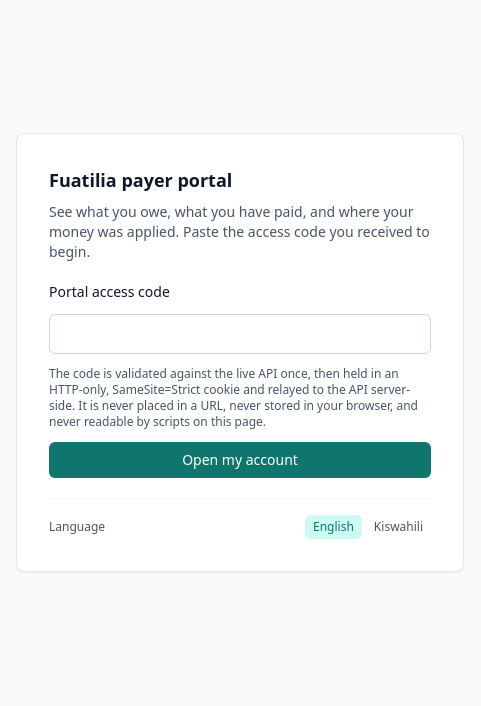
PortalGate › renders the refused state on 403 as well (authenticated but not authorized)
Type "0f1e2d3c-4b5a-4968-8776-6554433221ff" into the password field labelled "Portal access code".
click(240, 334); type("0f1e2d3c-4b5a-4968-8776-6554433221ff")  # box [49,314,431,354]
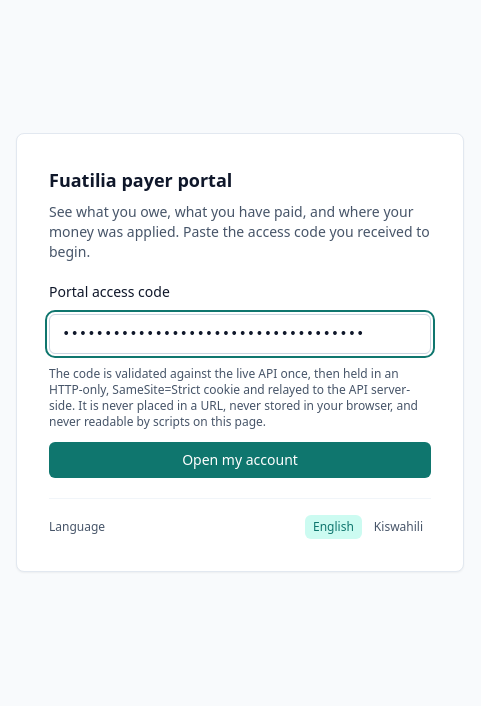
Click the button "Open my account".
click(240, 460)  # box [49,442,431,478]
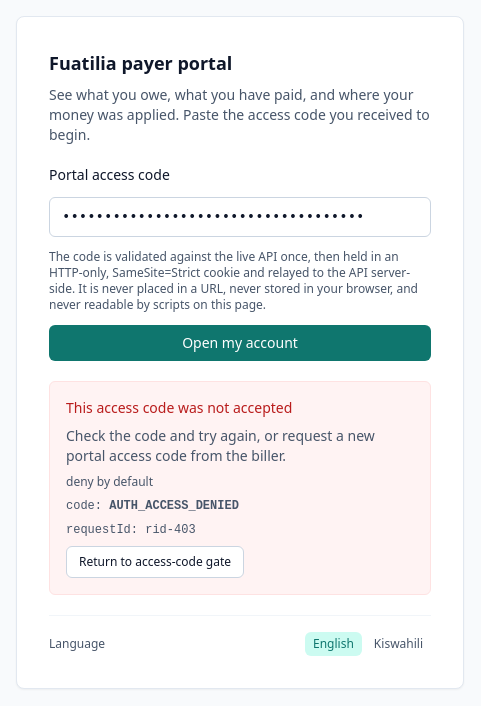
Result: the message with test id "access-refused" shows "AUTH_ACCESS_DENIED" at [109,499,239,513]
Result: the message with test id "access-refused" shows "rid-403" at [145,523,196,537]
